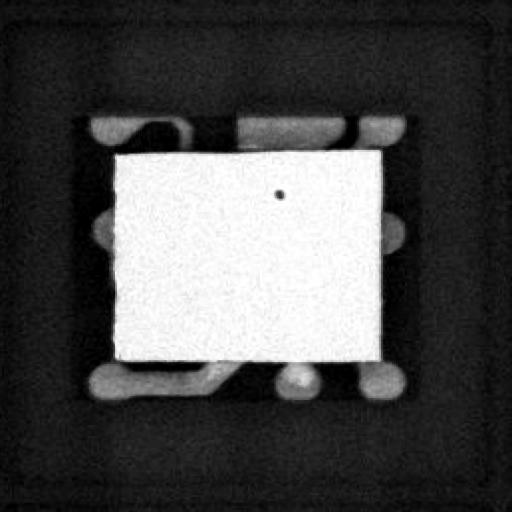DIE_INK: (256, 190, 273, 210)
